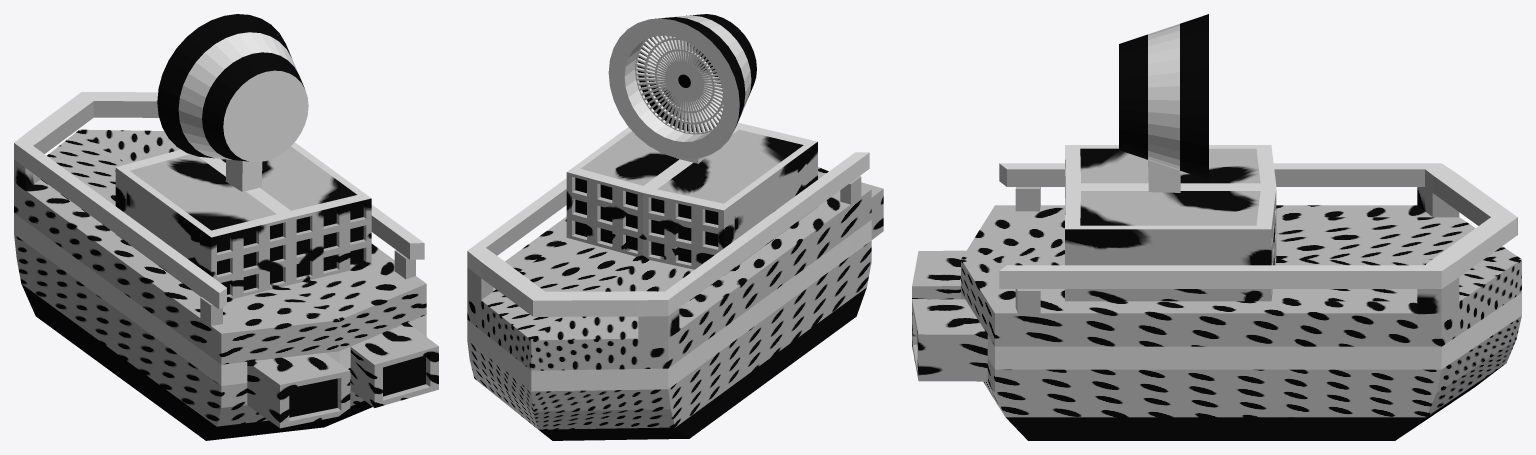
Rendered from SILVER_DestroyerASW.fbx.
3 views of the same model, side by side, from view 1: azimuth 30°, elevation 25°; view 2: azimuth 150°, elevation 25°; view 3: azimuth 270°, elevation 25° (orthographic). The views are drawn at different scales.
Visible parts, largest first — view 1: Cube, Cylinder; view 2: Cube, Cylinder; view 3: Cube, Cylinder.
Part boxes in pixels (left/top/right/bottom): Cube: left=14, top=92, right=438, bottom=440; Cylinder: left=157, top=14, right=308, bottom=191; Cube: left=467, top=122, right=883, bottom=440; Cylinder: left=608, top=14, right=756, bottom=163; Cube: left=912, top=145, right=1521, bottom=440; Cylinder: left=1119, top=14, right=1208, bottom=192.
Size of the model in its own units: 362 by 572 by 866.
